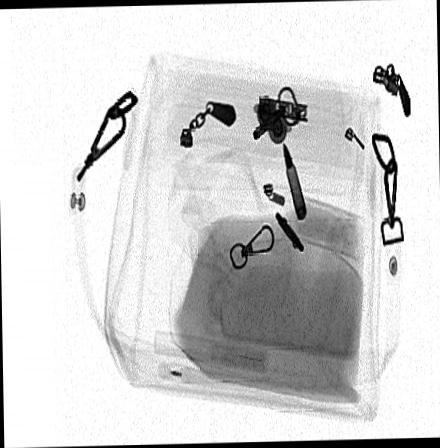Bullet: (282, 142, 307, 221)
